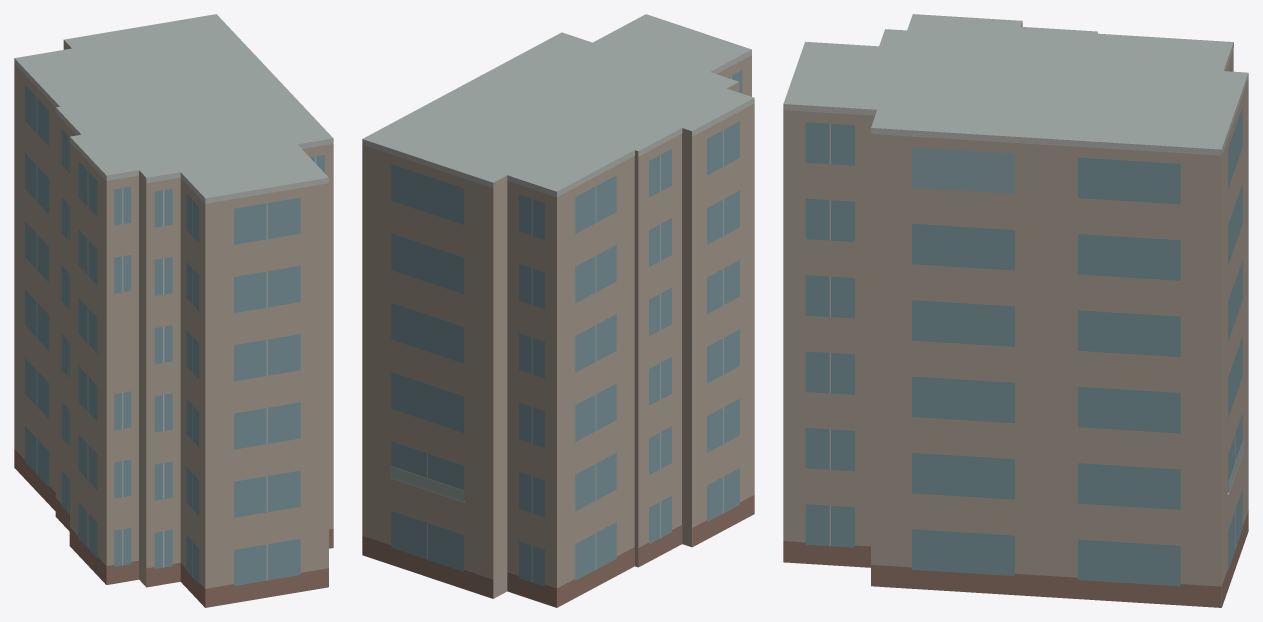
File: survey-upis-32538517.glb
The picture shows the model from 3 angles, left to right: view 1: azimuth 30°, elevation 25°; view 2: azimuth 150°, elevation 25°; view 3: azimuth 270°, elevation 25°; orthographic projection. The views are drawn at different scales.
Visible parts, largest first — view 1: survey-upis-32538517.tmp; view 2: survey-upis-32538517.tmp; view 3: survey-upis-32538517.tmp.
Boxes of the visible parts, x1,y1,x2,y2 form: survey-upis-32538517.tmp: (14, 14, 333, 607); survey-upis-32538517.tmp: (362, 14, 754, 607); survey-upis-32538517.tmp: (783, 14, 1248, 607).
Bounding box in the file's own units: 11.61 × 18.3 × 16.84.
